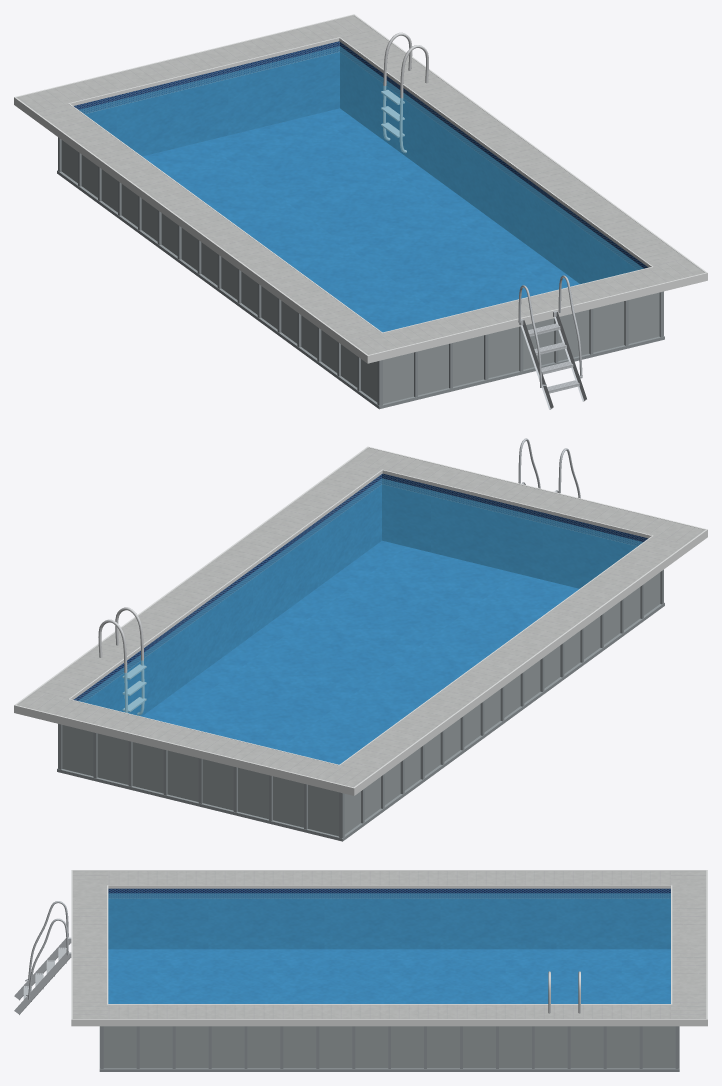
File: kayak-pool-16x32-gray-walk-ag-nofence.2c7870cf2e.glb
3 renders of one model, top to bottom at view 1: azimuth 30°, elevation 25°; view 2: azimuth 150°, elevation 25°; view 3: azimuth 270°, elevation 25°, orthographic. The views are drawn at different scales.
Visible parts, largest first — view 1: water, liner_floor, liner_wall, deck, wall, fascia, upright, ladder, steel; view 2: water, liner_floor, liner_wall, deck, wall, fascia, upright, steel; view 3: water, liner_wall, liner_floor, deck, wall, fascia, upright, ladder.
Boxes of the visible parts, left/top/right/bottom form: water: left=79, top=46, right=643, bottom=332; liner_floor: left=143, top=108, right=579, bottom=332; liner_wall: left=73, top=41, right=648, bottom=283; deck: left=17, top=15, right=704, bottom=354; wall: left=61, top=140, right=659, bottom=403; fascia: left=14, top=14, right=707, bottom=363; upright: left=57, top=137, right=664, bottom=409; ladder: left=518, top=275, right=586, bottom=409; steel: left=381, top=32, right=428, bottom=152; water: left=78, top=478, right=642, bottom=764; liner_floor: left=142, top=541, right=578, bottom=764; liner_wall: left=73, top=473, right=648, bottom=716; deck: left=17, top=447, right=704, bottom=787; wall: left=62, top=572, right=660, bottom=836; fascia: left=14, top=446, right=707, bottom=795; upright: left=57, top=569, right=664, bottom=841; steel: left=98, top=607, right=146, bottom=715; water: left=108, top=893, right=670, bottom=1003; liner_wall: left=108, top=888, right=670, bottom=949; liner_floor: left=108, top=949, right=670, bottom=1003; deck: left=72, top=871, right=706, bottom=1018; wall: left=103, top=1026, right=675, bottom=1068; fascia: left=71, top=870, right=707, bottom=1026; upright: left=99, top=1026, right=679, bottom=1071; ladder: left=14, top=901, right=71, bottom=1014.
Bounding box in the file's own units: 6.1 × 1.9 × 11.96.
Materials: 10 (3 with a texture image).
